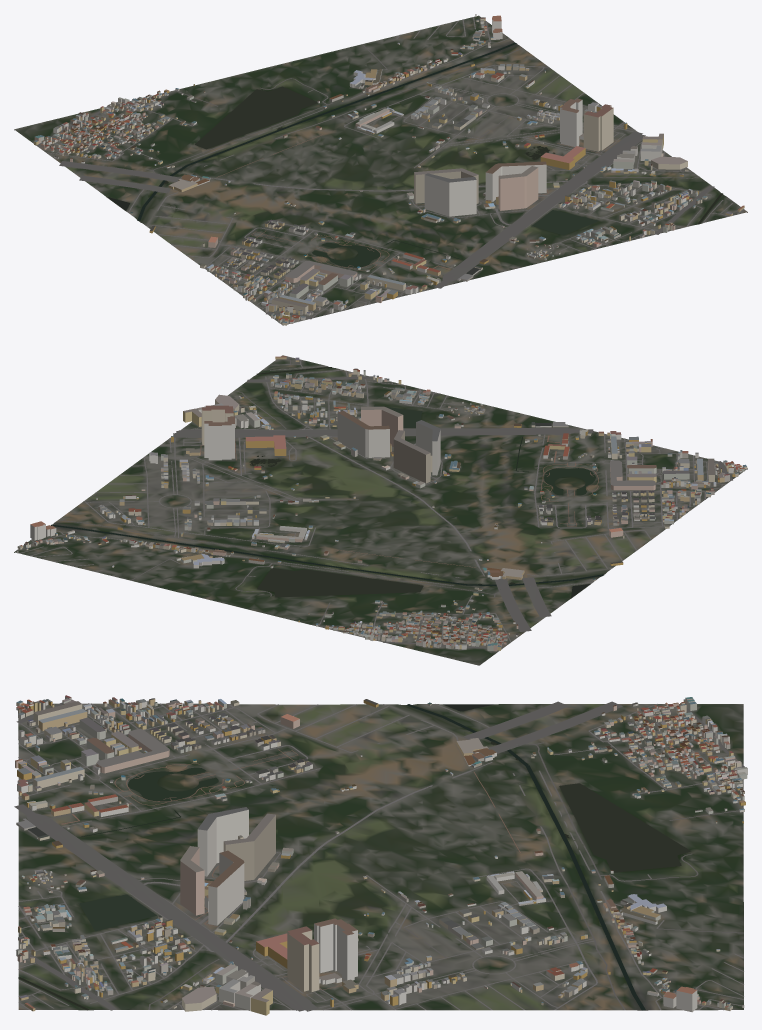
The picture shows the model from 3 angles, top to bottom: view 1: azimuth 30°, elevation 25°; view 2: azimuth 150°, elevation 25°; view 3: azimuth 270°, elevation 25°; orthographic projection. The views are drawn at different scales.
Parts seen in each view (by area): view 1: ground, buildings, roads, water; view 2: ground, buildings, roads, water; view 3: ground, buildings, roads, water.
Boxes of the visible parts, x1,y1,x2,y2 form: ground: (14, 15, 747, 325); buildings: (34, 14, 744, 325); roads: (36, 17, 743, 323); water: (107, 42, 722, 267); ground: (14, 355, 747, 665); buildings: (17, 356, 747, 651); roads: (19, 357, 734, 649); water: (51, 367, 603, 597); ground: (18, 703, 743, 1010); buildings: (15, 695, 747, 1015); roads: (14, 701, 744, 1011); water: (18, 704, 691, 1010).
Bounding box in the file's own units: 1437 × 103 × 1419.
